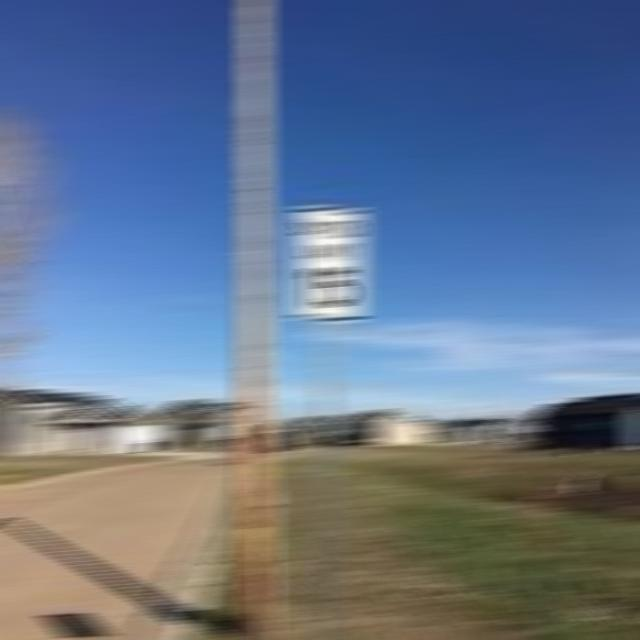speedLimit15: (289, 203, 366, 325)
